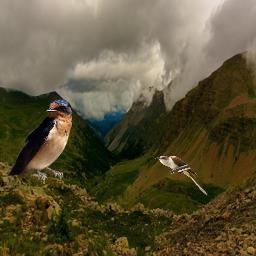Cuckoo: (155, 155, 208, 196)
Swallow: (7, 99, 72, 184)
